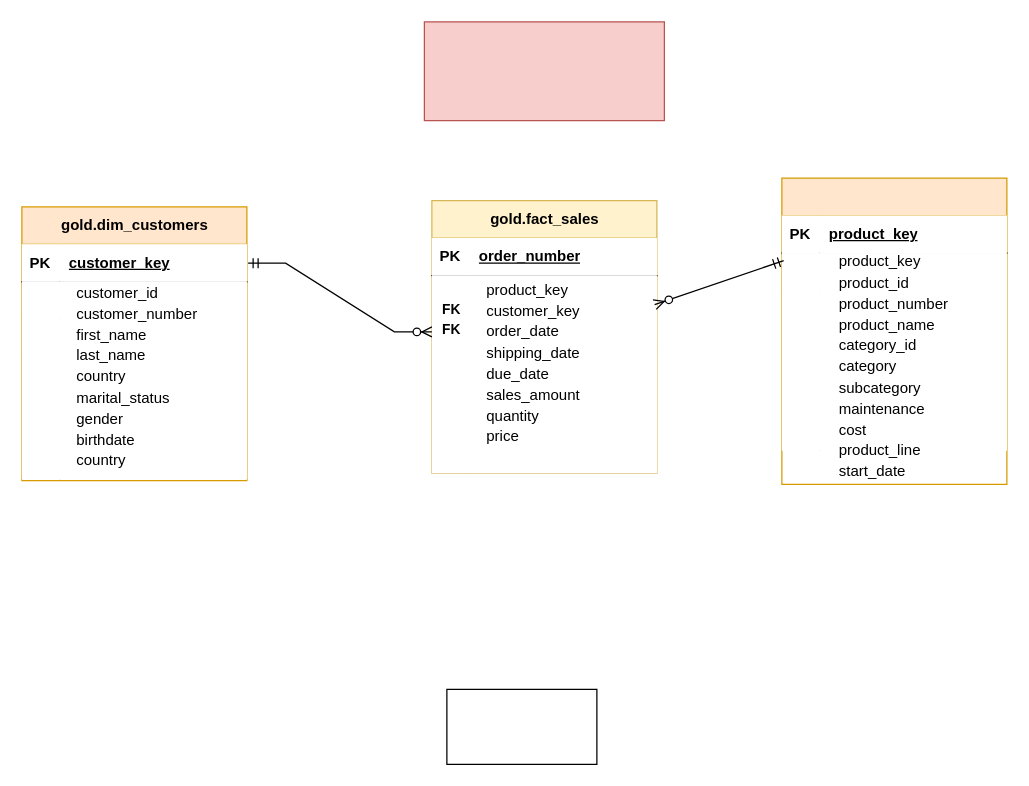
This 1029x786 diagram has some shape labels left out. Each missing label, with the box of its shape:
Data Model: (423, 21, 664, 121)
gold.dim_products: (781, 177, 1007, 484)
